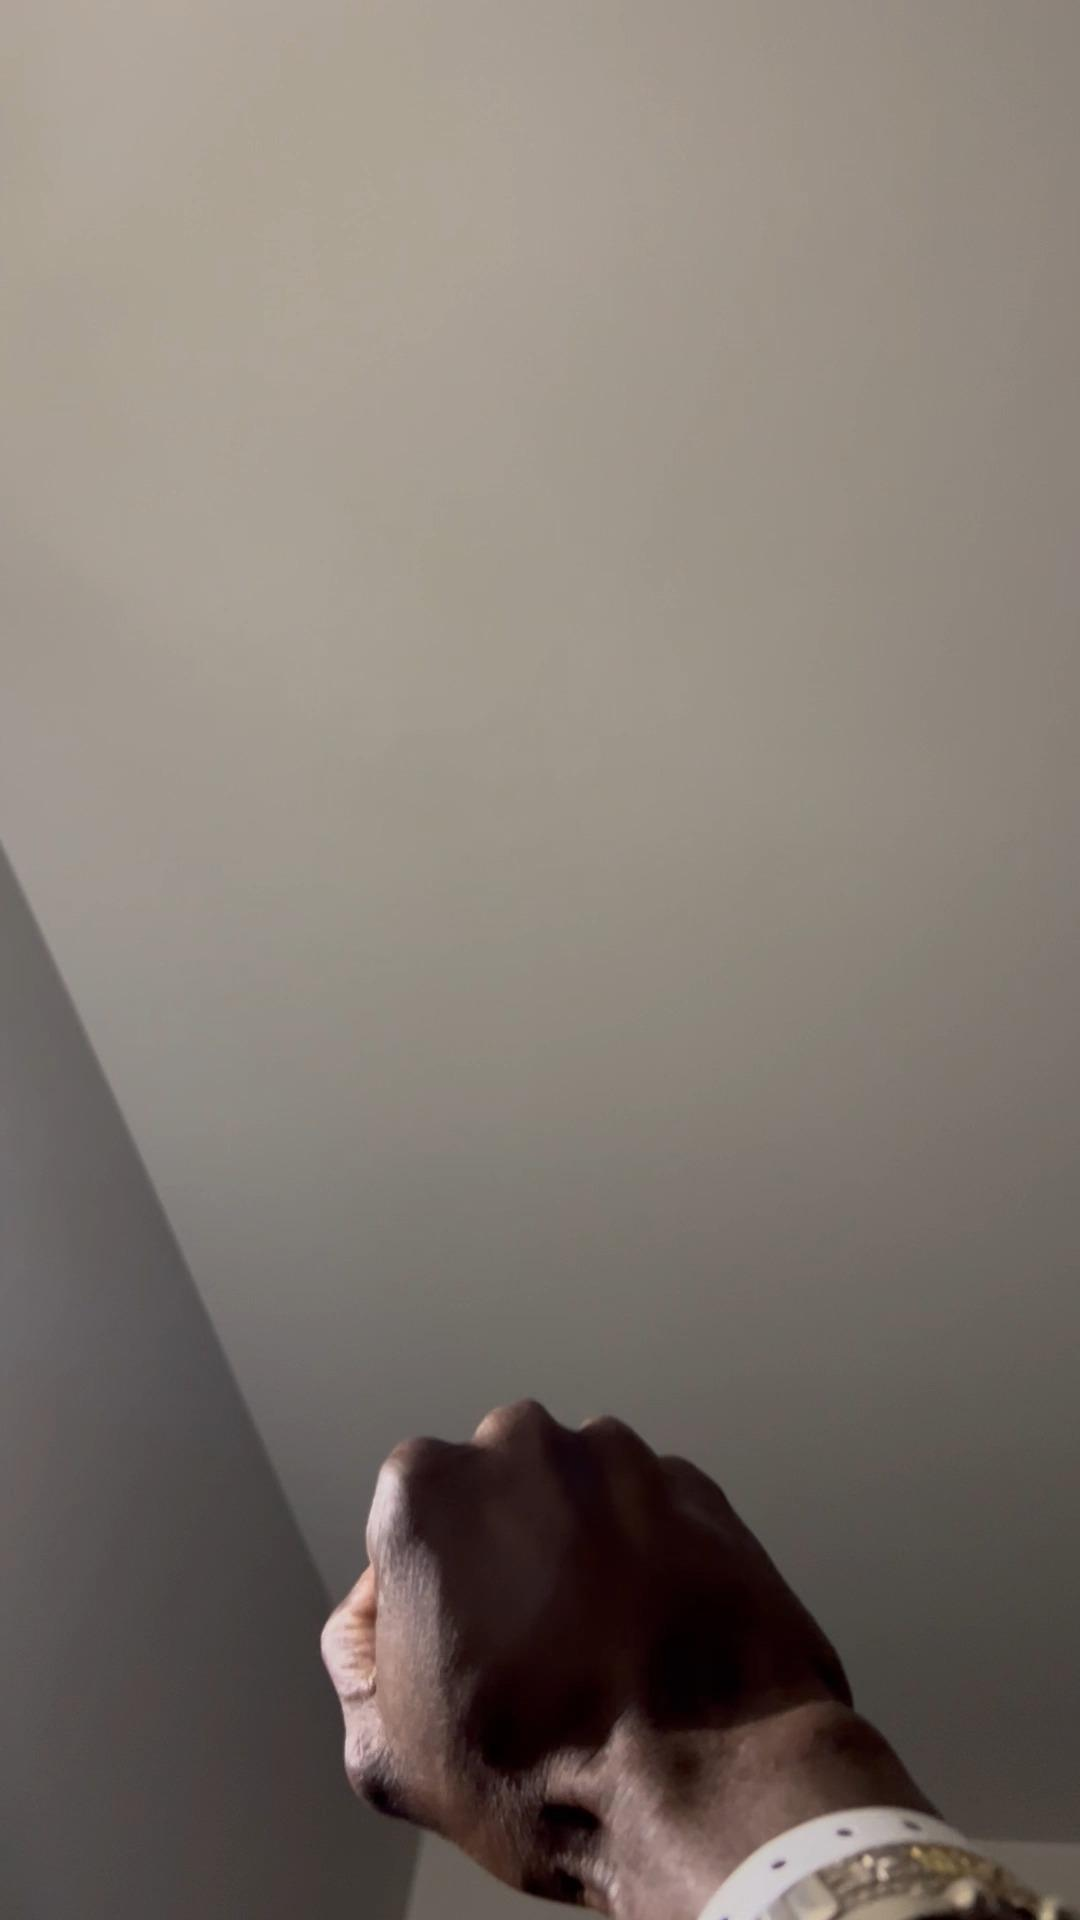Rock: (310, 1397, 871, 1899)
